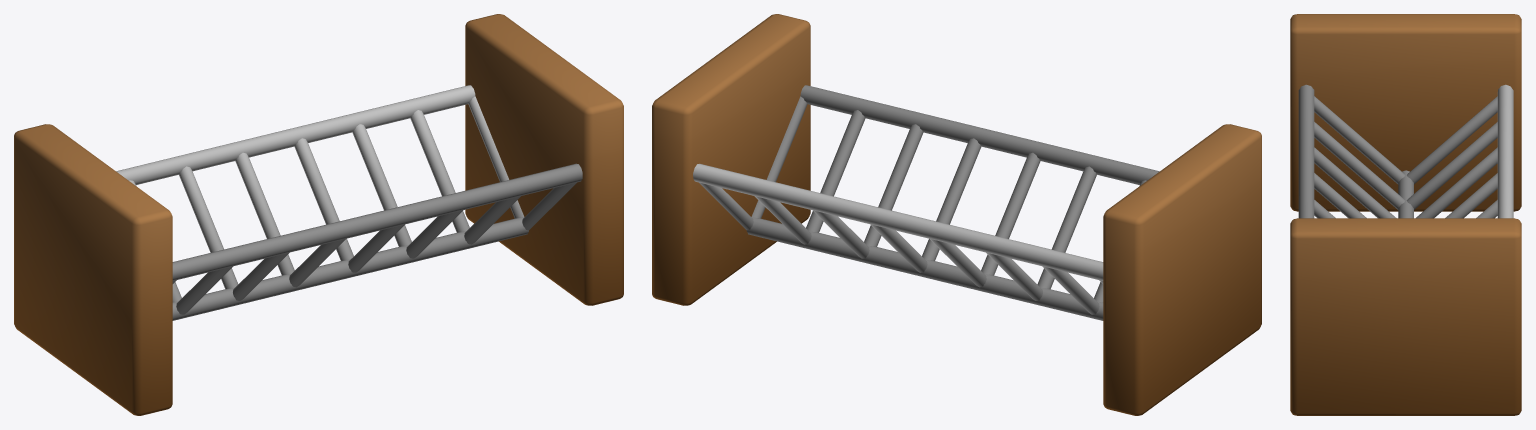
Rendered from Dish Rack.fbx.
The picture shows the model from 3 angles, left to right: view 1: azimuth 30°, elevation 25°; view 2: azimuth 150°, elevation 25°; view 3: azimuth 270°, elevation 25°; orthographic projection. The views are drawn at different scales.
Visible parts, largest first — view 1: Dish Rack; view 2: Dish Rack; view 3: Dish Rack.
Boxes of the visible parts, x1,y1,x2,y2 form: Dish Rack: (14,14,623,415); Dish Rack: (652,14,1261,415); Dish Rack: (1290,14,1521,415).
Bounding box in the file's own units: 0.701 × 0.2707 × 0.3086.
Materials: 1 (1 with a texture image).
